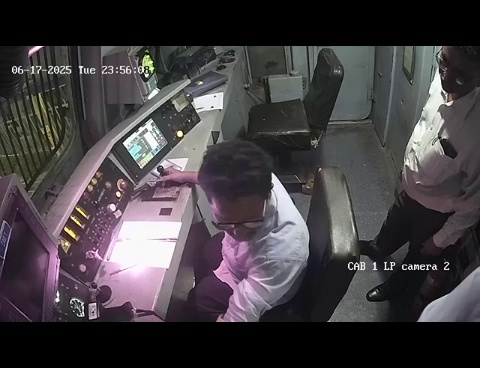horn_inactive: (80, 275, 126, 314)
